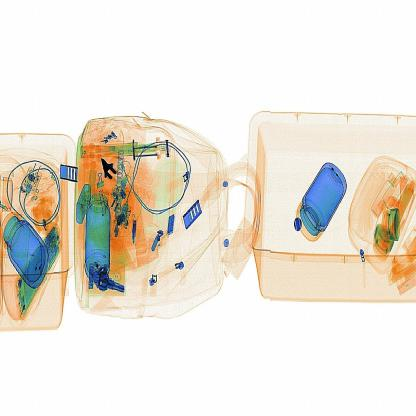gun: (90, 150, 128, 192)
